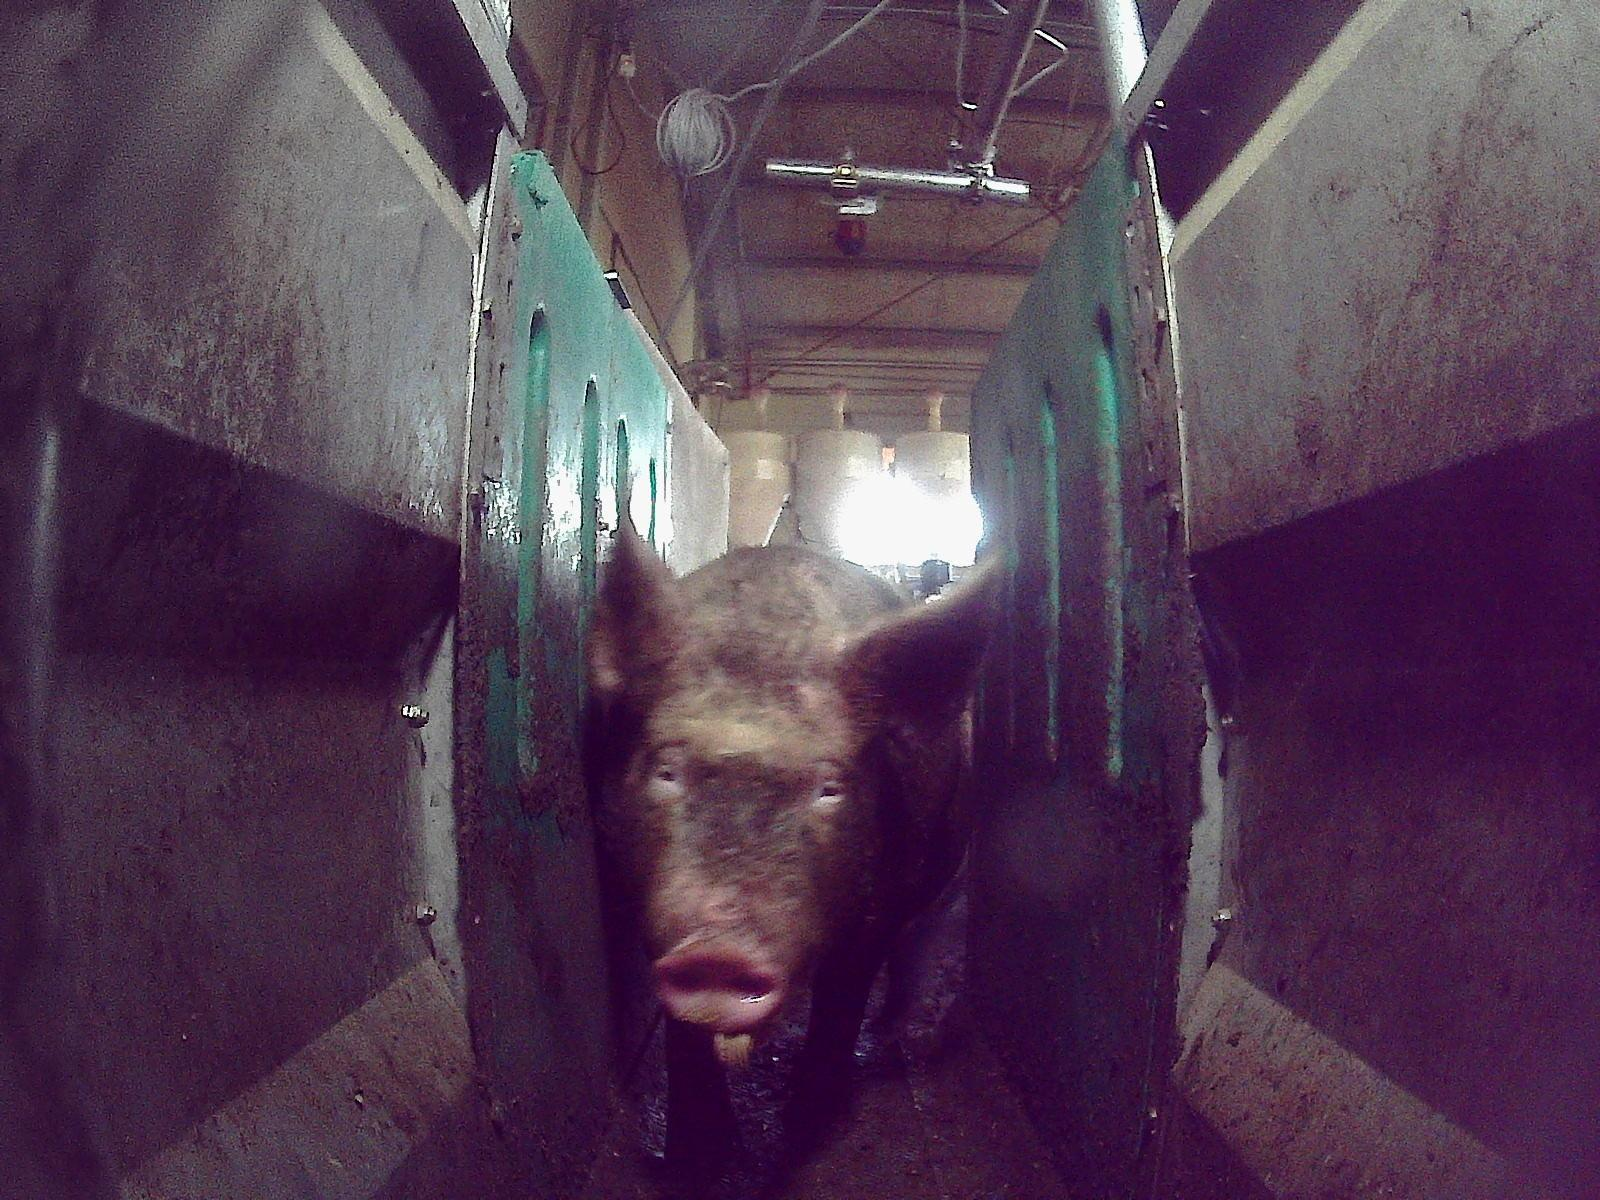Face: (632, 613, 858, 1034)
